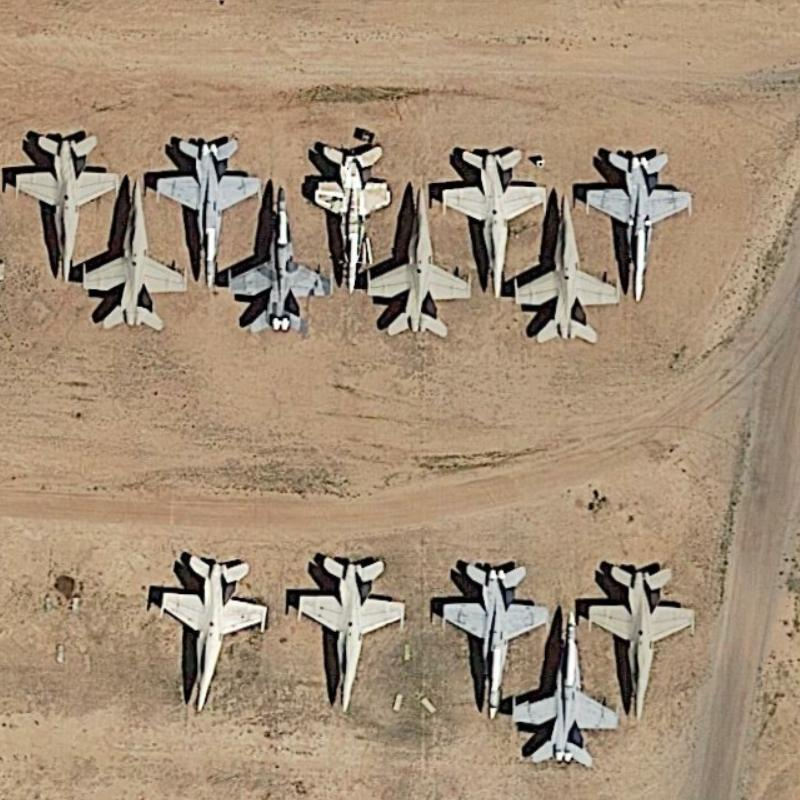A16: (139, 541, 273, 715), (575, 134, 703, 308), (581, 549, 706, 722), (423, 549, 540, 725), (505, 600, 622, 773), (285, 549, 407, 710), (213, 182, 339, 337), (436, 136, 553, 302), (75, 174, 196, 333), (509, 177, 624, 343), (5, 121, 118, 286), (154, 128, 264, 293), (359, 179, 468, 337), (308, 134, 391, 302)
